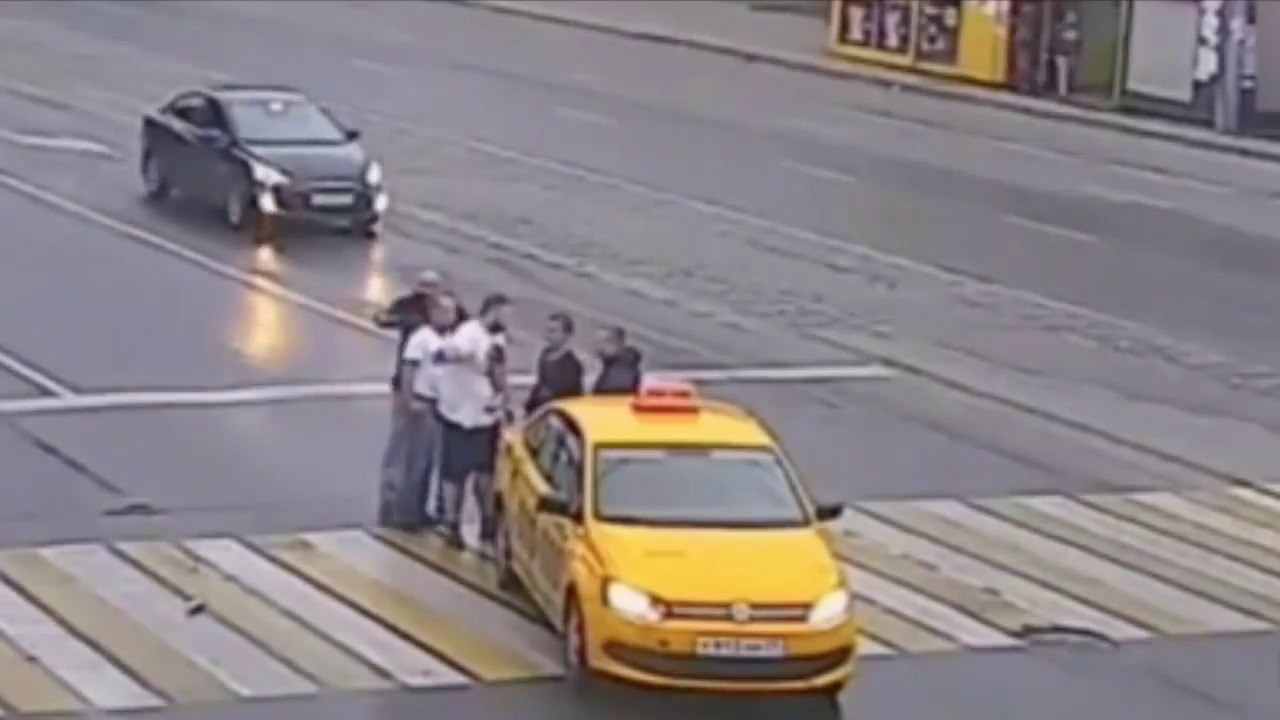car: (141, 81, 390, 243)
taxi: (478, 383, 861, 697)
